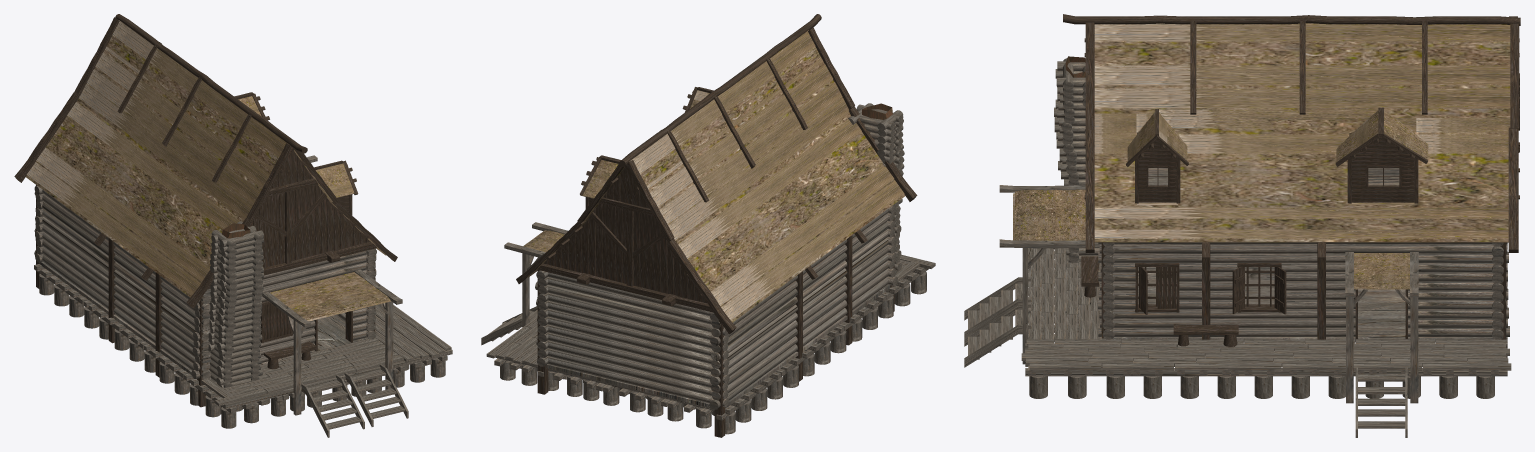
File: log_cabin.glb
The picture shows the model from 3 angles, left to right: view 1: azimuth 30°, elevation 25°; view 2: azimuth 150°, elevation 25°; view 3: azimuth 270°, elevation 25°; orthographic projection. The views are drawn at different scales.
Visible parts, largest first — view 1: Cube.178_388, Plane.020_407, Plane.016_403, Plane.021_408, Plane.017_404, Plane.012_399, Plane.014_401, Plane.015_402, Cube.176_371, Plane_0, Cylinder.191_409, Cylinder.024_25 (+36 smaller); view 2: Cube.178_388, Plane.020_407, Plane.017_404, Plane.016_403, Plane.021_408, Plane.012_399, Plane.014_401, Plane.015_402, Plane_0, Cylinder.191_409, Cylinder.009_10, Cylinder.005_6 (+50 smaller); view 3: Cube.177_387, Plane.004_391, Plane.005_392, Plane.002_389, Plane.010_397, Plane_0, Plane.011_398, Cylinder.191_409, Cube.176_371, Cylinder.045_46, Plane.006_393, Plane.007_394 (+44 smaller).
Part boxes in pixels (x1,y1,x2,y2): Cube.178_388: (26,35,278,297); Plane.020_407: (36,147,210,281); Plane.016_403: (79,84,252,219); Plane.021_408: (26,162,200,295); Plane.017_404: (67,102,239,229); Plane.012_399: (112,20,289,156); Plane.014_401: (95,52,269,188); Plane.015_402: (87,69,260,204); Cube.176_371: (270,272,390,319); Plane_0: (39,261,368,379); Cylinder.191_409: (115,14,307,153); Cylinder.024_25: (34,250,210,379); Cube.178_388: (640,46,905,322); Plane.020_407: (711,165,894,305); Plane.017_404: (678,119,861,258); Plane.016_403: (668,97,849,240); Plane.021_408: (721,180,904,320); Plane.012_399: (629,30,815,174); Plane.014_401: (650,64,832,206); Plane.015_402: (659,81,842,224); Plane_0: (546,284,890,407); Cylinder.191_409: (619,14,821,166); Cylinder.009_10: (535,281,728,335); Cylinder.005_6: (537,316,729,367); Cube.177_387: (1094,41,1510,242); Plane.004_391: (1094,65,1510,85); Plane.005_392: (1094,88,1510,108); Plane.002_389: (1094,23,1510,41); Plane.010_397: (1094,202,1508,218); Plane_0: (1102,267,1493,342); Plane.011_398: (1094,229,1508,238); Cylinder.191_409: (1063,14,1520,25); Cube.176_371: (1015,189,1085,240); Cylinder.045_46: (1099,244,1507,253); Plane.006_393: (1159,109,1378,128); Plane.007_394: (1178,134,1348,153).
Size of the model in its own units: 40.21 by 34.65 by 55.41.
24 materials, 24 textured.
